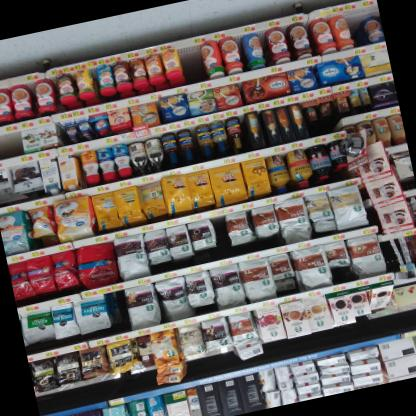empty_space: (174, 37, 206, 84), (208, 207, 233, 259), (0, 123, 25, 164)
